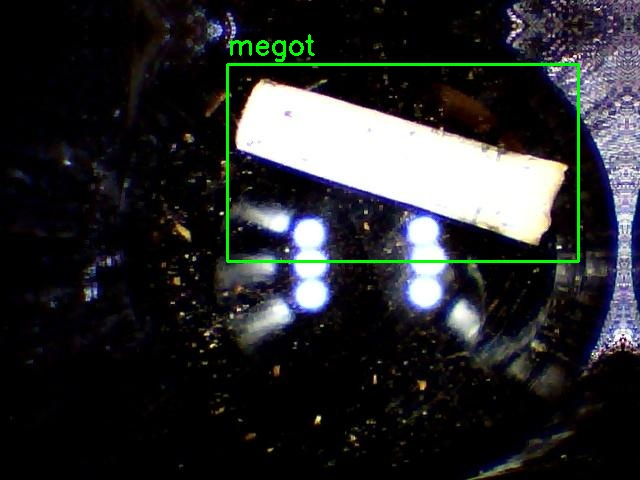megot: (227, 64, 578, 261)
